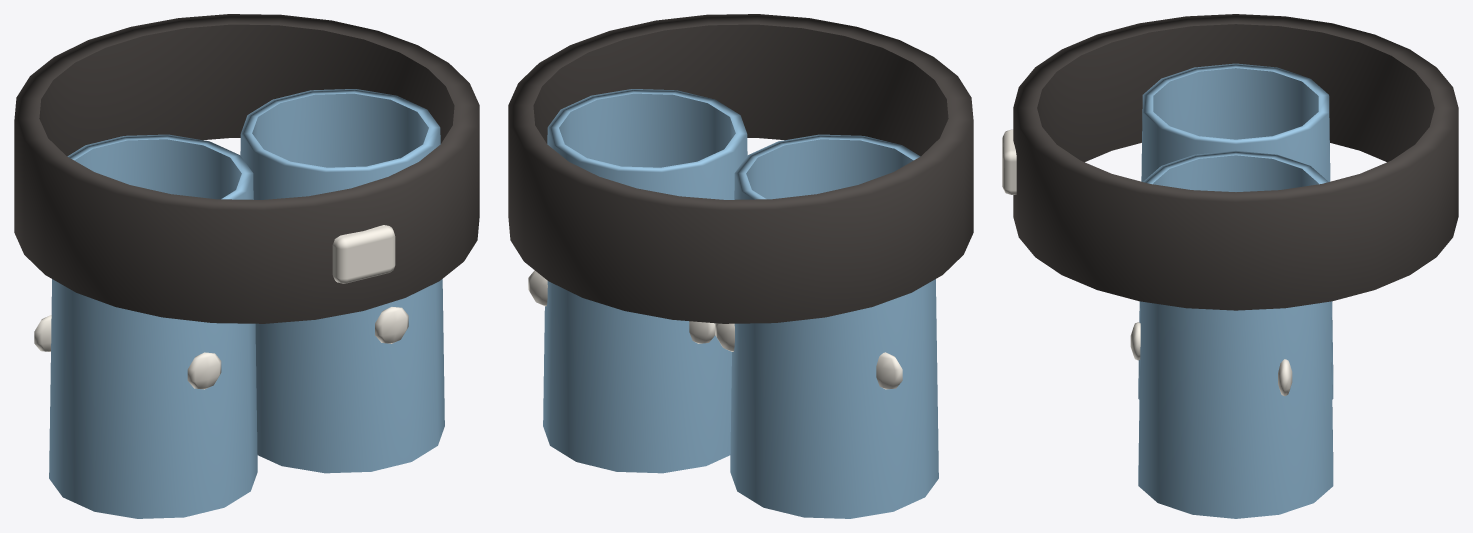
Rendered from comedians_pants.glb.
3 views of the same model, side by side, from view 1: azimuth 30°, elevation 25°; view 2: azimuth 150°, elevation 25°; view 3: azimuth 270°, elevation 25° (orthographic). The views are drawn at different scales.
Parts seen in each view (by area): view 1: comedians_pants_Body, comedians_pants_LegL, comedians_pants_LegR; view 2: comedians_pants_Body, comedians_pants_LegL, comedians_pants_LegR; view 3: comedians_pants_Body, comedians_pants_LegR, comedians_pants_LegL.
Boxes of the visible parts, bbox=[...] form: comedians_pants_Body: bbox=[14, 14, 479, 323]; comedians_pants_LegL: bbox=[34, 134, 257, 518]; comedians_pants_LegR: bbox=[240, 89, 444, 473]; comedians_pants_Body: bbox=[508, 14, 973, 323]; comedians_pants_LegL: bbox=[715, 134, 938, 518]; comedians_pants_LegR: bbox=[528, 89, 747, 473]; comedians_pants_Body: bbox=[1002, 14, 1458, 310]; comedians_pants_LegR: bbox=[1130, 150, 1333, 518]; comedians_pants_LegL: bbox=[1138, 63, 1333, 399].
Size of the model in its own units: 0.41 by 0.33 by 0.42.
